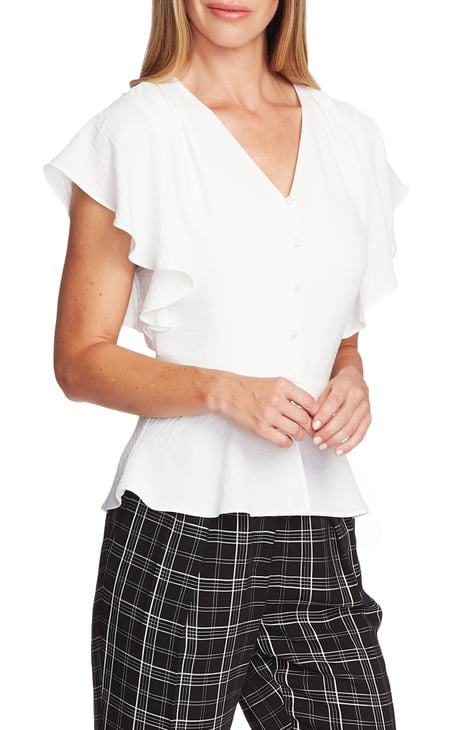S_short blouse: (40, 72, 404, 531)
